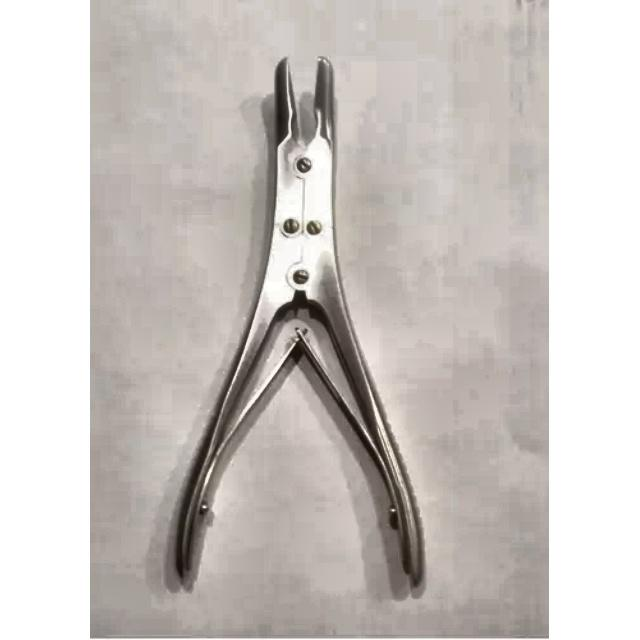gubia: (155, 57, 426, 600)
